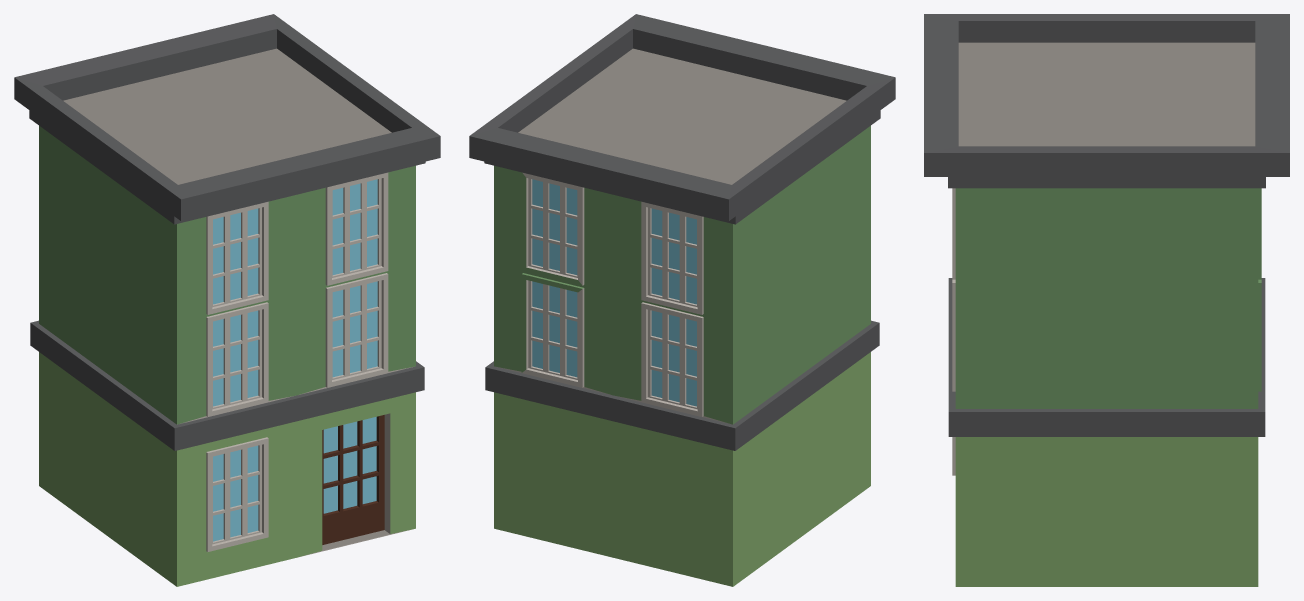
File: SM_Building_03_A.gltf
3 views of the same model, side by side, from view 1: azimuth 30°, elevation 25°; view 2: azimuth 150°, elevation 25°; view 3: azimuth 270°, elevation 25° (orthographic). The views are drawn at different scales.
Parts seen in each view (by area): view 1: SM_Building_03_A; view 2: SM_Building_03_A; view 3: SM_Building_03_A.
Boxes of the visible parts, <box> form: SM_Building_03_A: <box>14,14,440,586</box>; SM_Building_03_A: <box>469,14,895,586</box>; SM_Building_03_A: <box>924,14,1289,586</box>.
Size of the model in its own units: 1.96 by 2.9 by 2.19.
